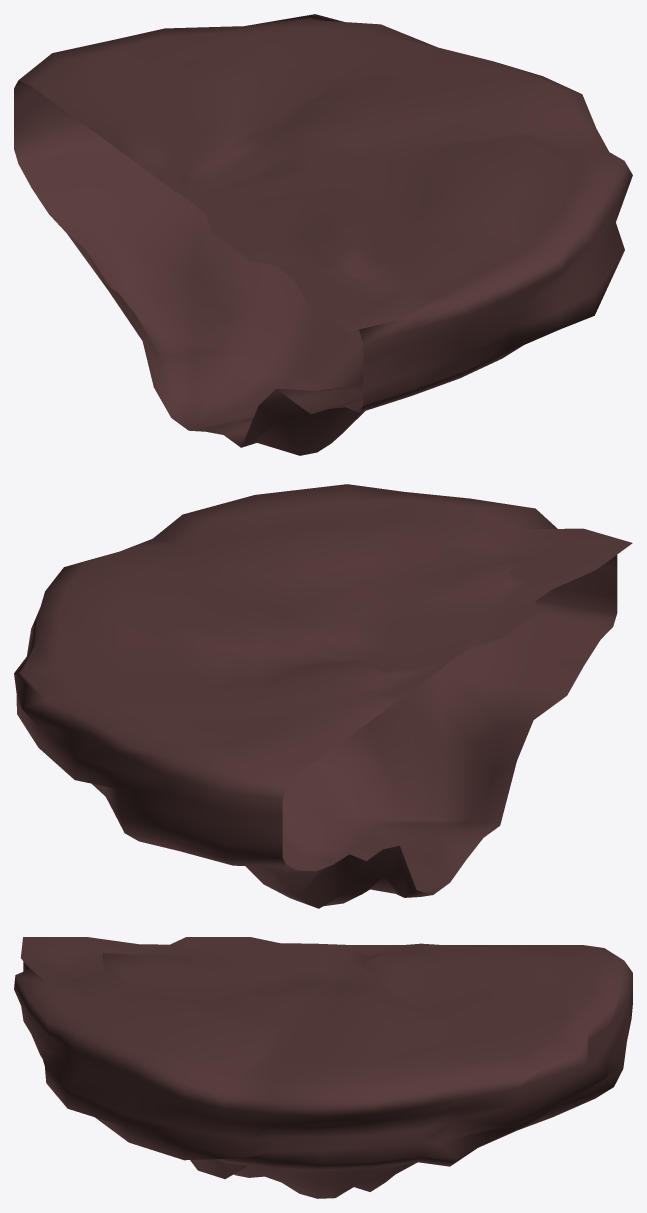
The model's file is Piso zona 2d.fbx.
The picture shows the model from 3 angles, top to bottom: view 1: azimuth 30°, elevation 25°; view 2: azimuth 150°, elevation 25°; view 3: azimuth 270°, elevation 25°; orthographic projection. The views are drawn at different scales.
Parts seen in each view (by area): view 1: pCylinder1; view 2: pCylinder1; view 3: pCylinder1.
Boxes of the visible parts, <box> form: pCylinder1: <box>14,14,632,455</box>; pCylinder1: <box>14,484,632,908</box>; pCylinder1: <box>14,937,632,1198</box>.
Bounding box in the file's own units: 1.38 × 0.7993 × 2.1.
